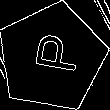P_W: (23, 35, 80, 80)
